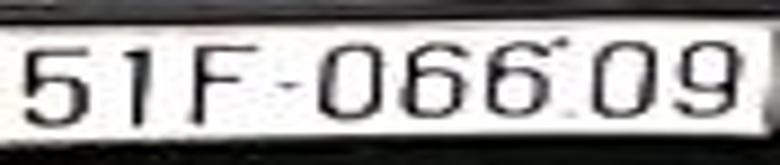-: (274, 76, 299, 91)
.: (563, 107, 575, 121)
0: (594, 38, 657, 117), (319, 44, 382, 121)
1: (119, 52, 152, 126)
5: (24, 47, 90, 130)
6: (402, 39, 468, 121), (482, 39, 549, 119)
9: (678, 39, 738, 118)
F: (191, 47, 255, 123)
